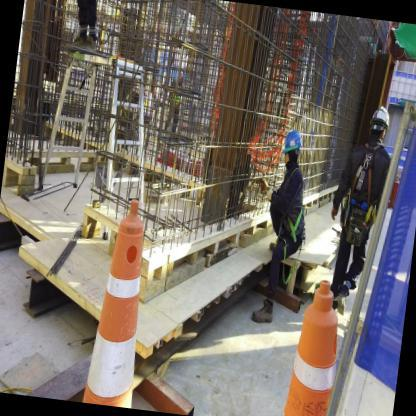Helmet: (276, 124, 306, 157)
safety-shoe: (252, 295, 277, 327)
